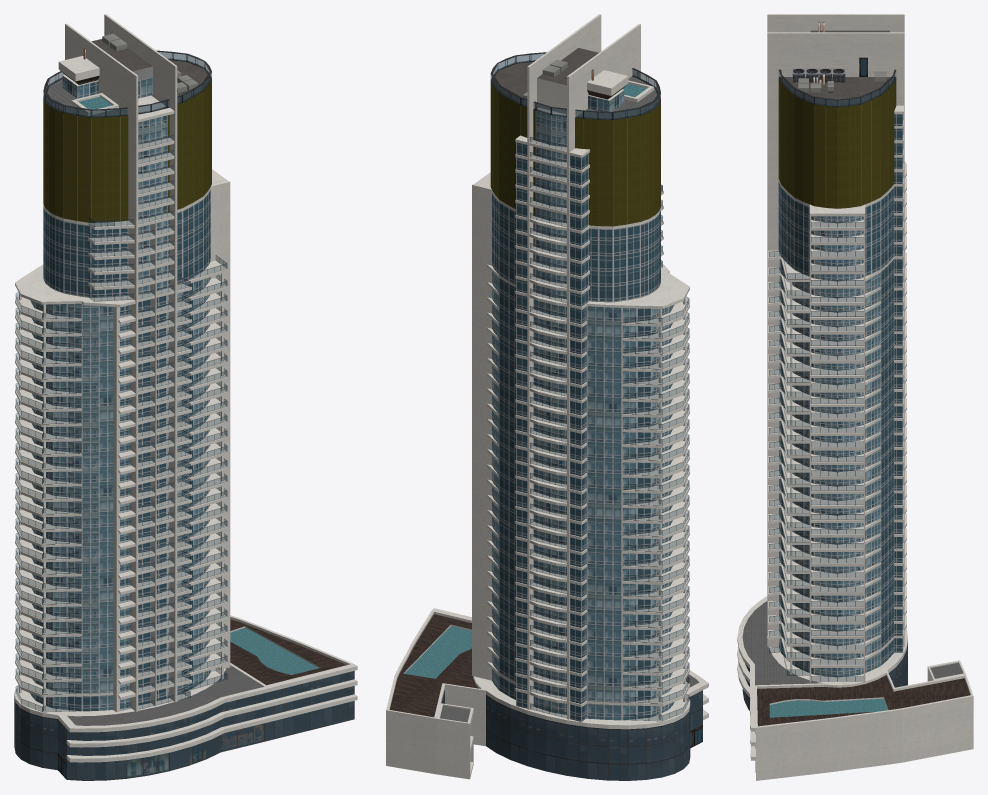
The picture shows the model from 3 angles, left to right: view 1: azimuth 30°, elevation 25°; view 2: azimuth 150°, elevation 25°; view 3: azimuth 270°, elevation 25°; orthographic projection. The views are drawn at different scales.
Visible parts, largest first — view 1: skfb_offset; view 2: skfb_offset; view 3: skfb_offset.
Part boxes in pixels (bbox=[...]): skfb_offset: bbox=[14, 14, 357, 780]; skfb_offset: bbox=[386, 14, 708, 780]; skfb_offset: bbox=[737, 14, 973, 780].
Size of the model in its own units: 6099 by 13800 by 4428.
Materials: 1 (1 with a texture image).
